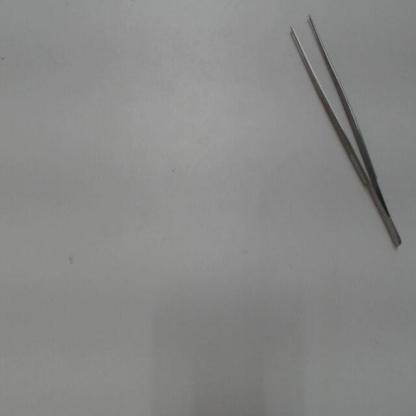Gillies Toothed Dissector: (283, 2, 409, 258)
